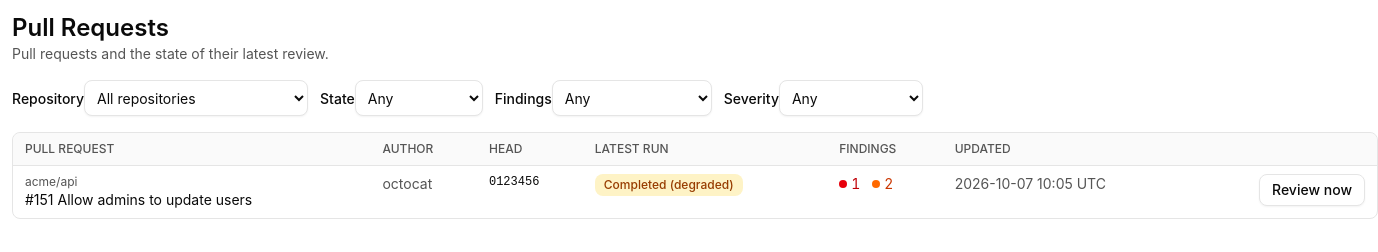
pull requests › manual_review_maintainer_only
This screenshot has width=1378, height=252.
Expected: the link "#151 Allow admins to update users" is shown, [25,191,252,208]
Click the button with aria-label "Review #151 now": click(1312, 190) [1259,174,1365,206]
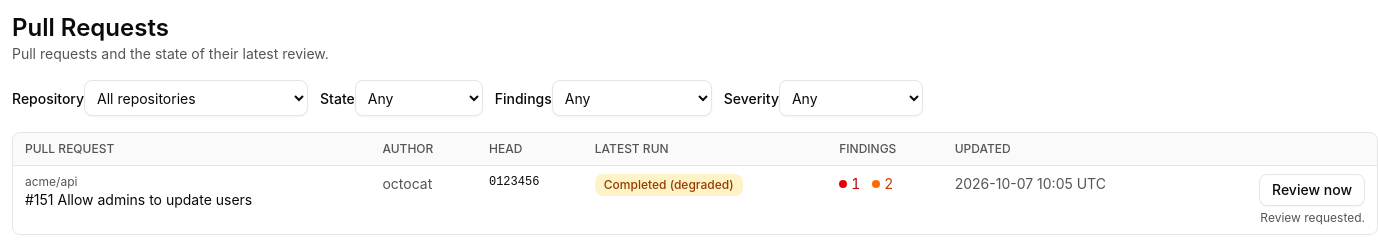
Expected: the text "Review requested." is shown, [1260,210,1365,226]
